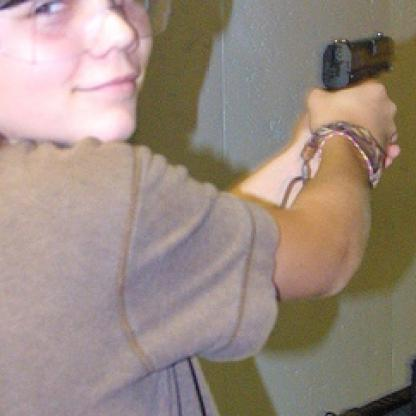gun: (313, 25, 402, 103)
